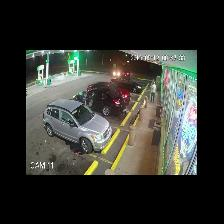person: (70, 143, 85, 155), (151, 82, 156, 102), (121, 96, 126, 116)
